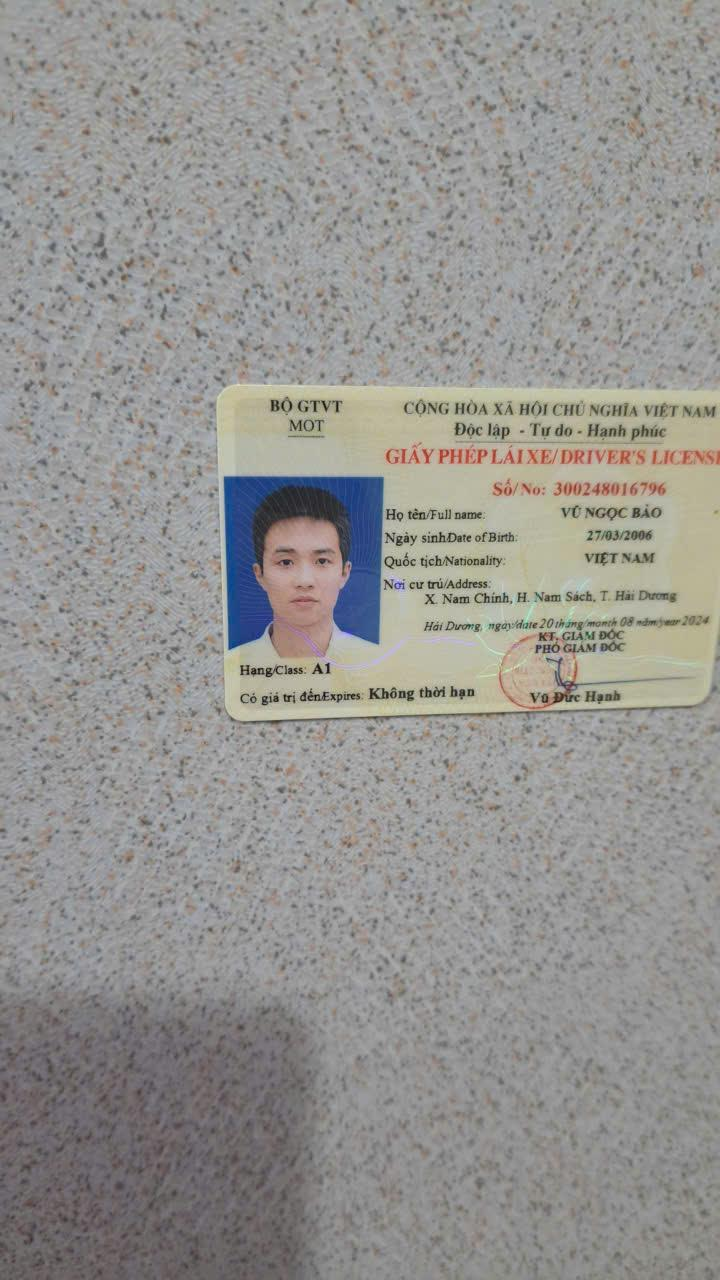gplx: (207, 375, 720, 730)
